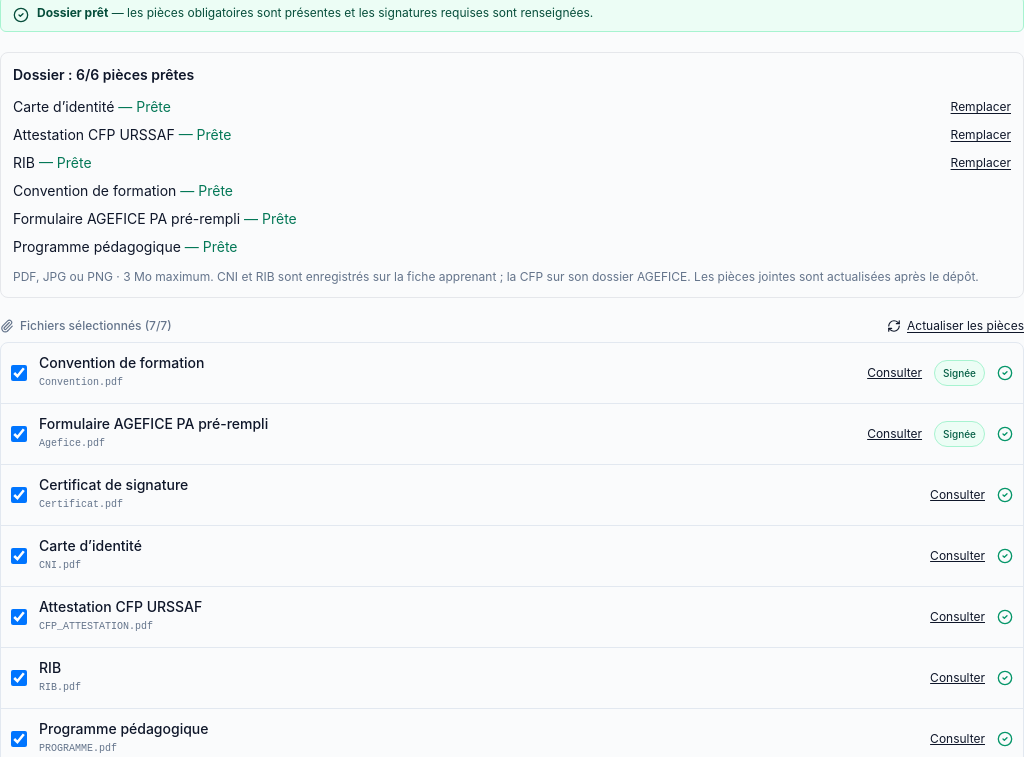
Scenario: AGEFICE : contrôles stricts et résultat du transport › reconnaît un dossier initial complet et bloque une pièce décochée
(page scrolled)
Click the checkbox next to "Convention.pdf": (19, 373) 11,365 -> 27,381
(page scrolled)
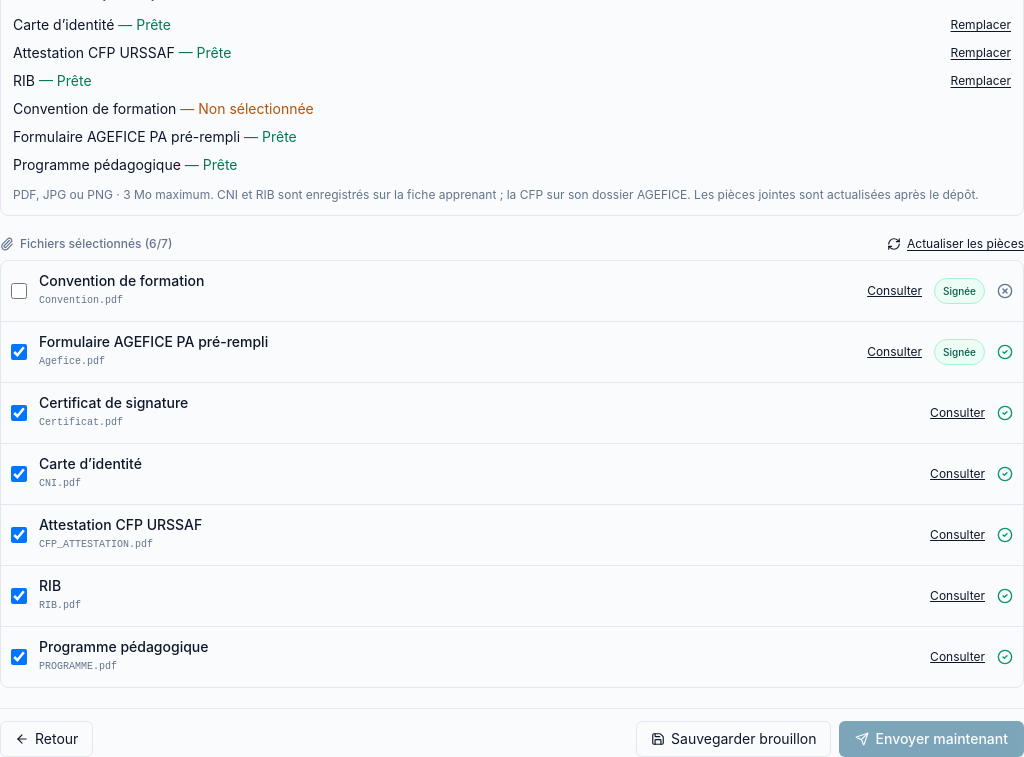
Check: the button "Envoyer maintenant" is disabled, box 840,721 -> 1023,756
